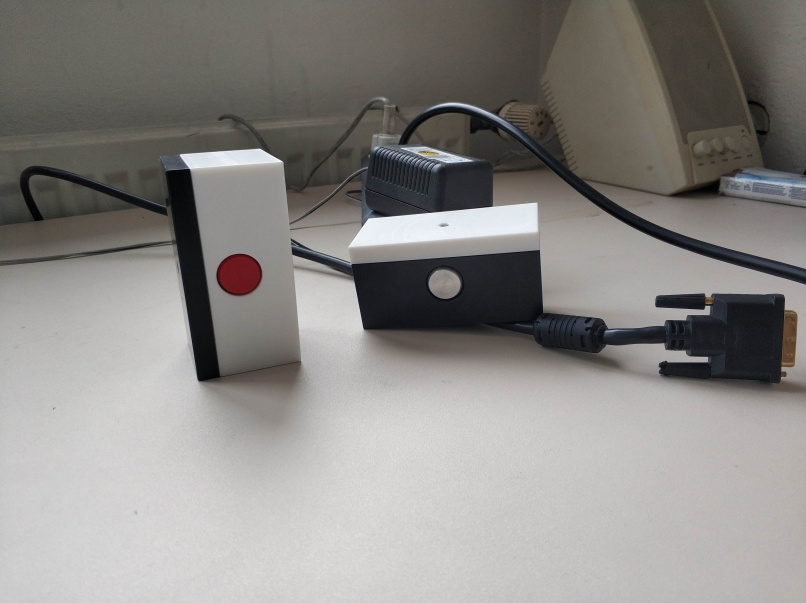black+white+red: (158, 147, 304, 384)
white+black+silver: (346, 199, 546, 335)
